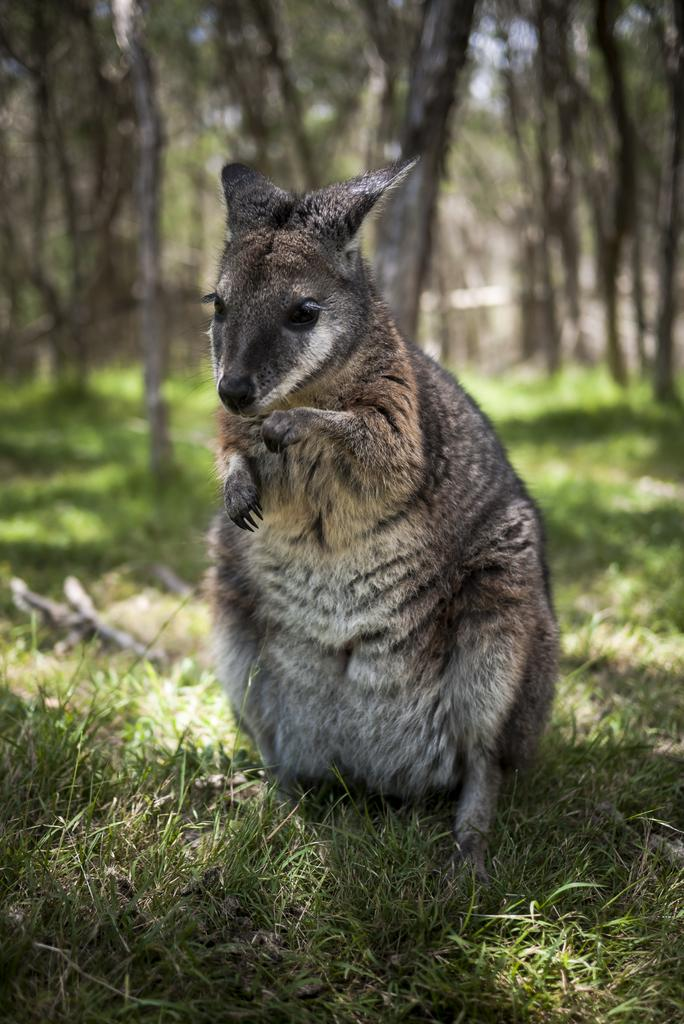kangaroo: (192, 159, 554, 862)
